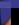grenade: (0, 0, 11, 8)
